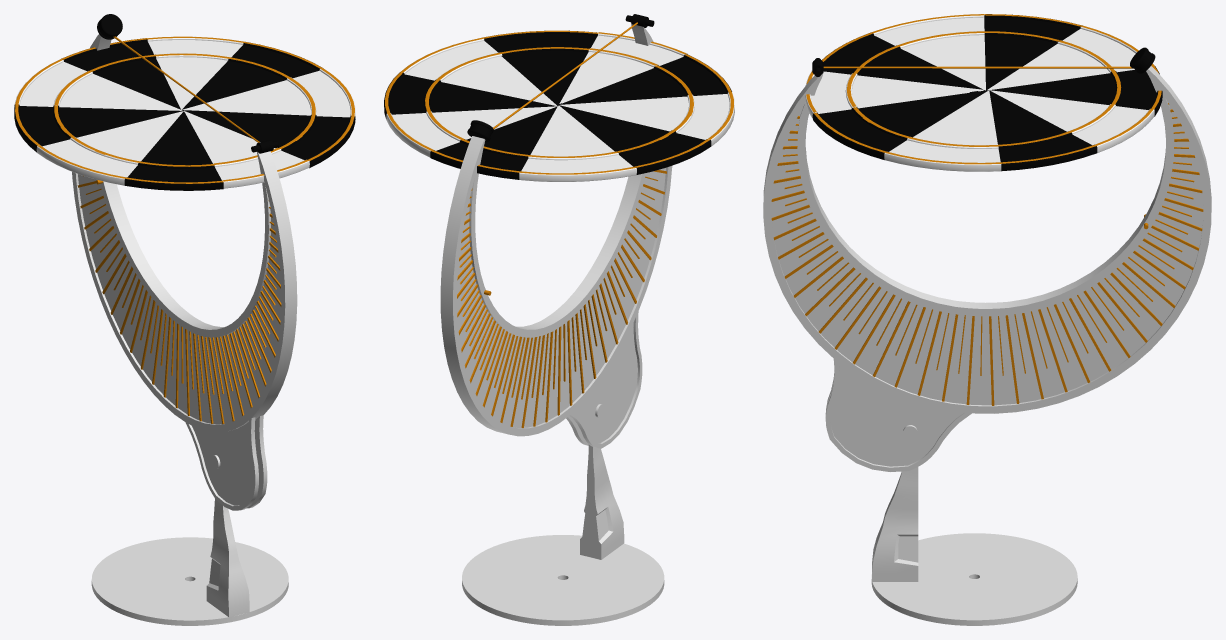
File: mundarolmadanhemenoncesaat(1).fbx
3 renders of one model, left to right at view 1: azimuth 30°, elevation 25°; view 2: azimuth 150°, elevation 25°; view 3: azimuth 270°, elevation 25°, orthographic. The views are drawn at different scales.
Visible parts, largest first — view 1: Tutma_aparatı, ayak, tutmanın_süsleri, sol_saat.8, sağ_saat.4, sağ_saat.3, sol_saat.10, sol_saat.7, sol_saat.9, sağ_saat.2, sağ_saat.1, sol_saat.6 (+2 smaller); view 2: Tutma_aparatı, ayak, tutmanın_süsleri, sol_saat.10, sol_saat.8, sağ_saat.3, sağ_saat.4, sol_saat.9, sol_saat.7, sol_saat.6, sağ_saat.2, sağ_saat.1 (+2 smaller); view 3: Tutma_aparatı, ayak, tutmanın_süsleri, sağ_saat.3, sağ_saat.4, sol_saat.8, sağ_saat.2, sol_saat.10, sağ_saat.1, sol_saat.9, sol_saat.6, sol_saat.7 (+2 smaller).
Boxes of the visible parts, bbox=[...] form: Tutma_aparatı: bbox=[72, 34, 297, 510]; ayak: bbox=[91, 455, 288, 625]; tutmanın_süsleri: bbox=[77, 175, 281, 424]; sol_saat.8: bbox=[36, 111, 183, 185]; sağ_saat.4: bbox=[181, 110, 355, 168]; sağ_saat.3: bbox=[182, 68, 355, 118]; sol_saat.10: bbox=[14, 59, 182, 110]; sol_saat.7: bbox=[124, 111, 223, 190]; sol_saat.9: bbox=[14, 104, 182, 152]; sağ_saat.2: bbox=[182, 41, 322, 109]; sağ_saat.1: bbox=[147, 36, 244, 113]; sol_saat.6: bbox=[184, 111, 309, 188]; Tutma_aparatı: bbox=[440, 24, 672, 448]; ayak: bbox=[462, 404, 664, 625]; tutmanın_süsleri: bbox=[457, 170, 666, 427]; sol_saat.10: bbox=[519, 105, 636, 181]; sol_saat.8: bbox=[559, 92, 734, 146]; sağ_saat.3: bbox=[400, 37, 557, 106]; sağ_saat.4: bbox=[482, 30, 598, 106]; sol_saat.9: bbox=[559, 105, 711, 174]; sol_saat.7: bbox=[559, 54, 731, 104]; sol_saat.6: bbox=[559, 32, 687, 103]; sağ_saat.2: bbox=[384, 72, 556, 118]; sağ_saat.1: bbox=[386, 106, 557, 157]; Tutma_aparatı: bbox=[763, 66, 1211, 471]; ayak: bbox=[871, 425, 1077, 625]; tutmanın_süsleri: bbox=[771, 103, 1203, 405]; sağ_saat.3: bbox=[884, 90, 1001, 171]; sağ_saat.4: bbox=[812, 90, 988, 159]; sol_saat.8: bbox=[871, 14, 985, 91]; sağ_saat.2: bbox=[989, 90, 1097, 171]; sol_saat.10: bbox=[987, 25, 1154, 90]; sağ_saat.1: bbox=[989, 90, 1154, 153]; sol_saat.9: bbox=[984, 14, 1082, 90]; sol_saat.6: bbox=[805, 70, 983, 118]; sol_saat.7: bbox=[822, 32, 984, 92].
Bounding box in the file's own units: 299 × 493 × 375.
